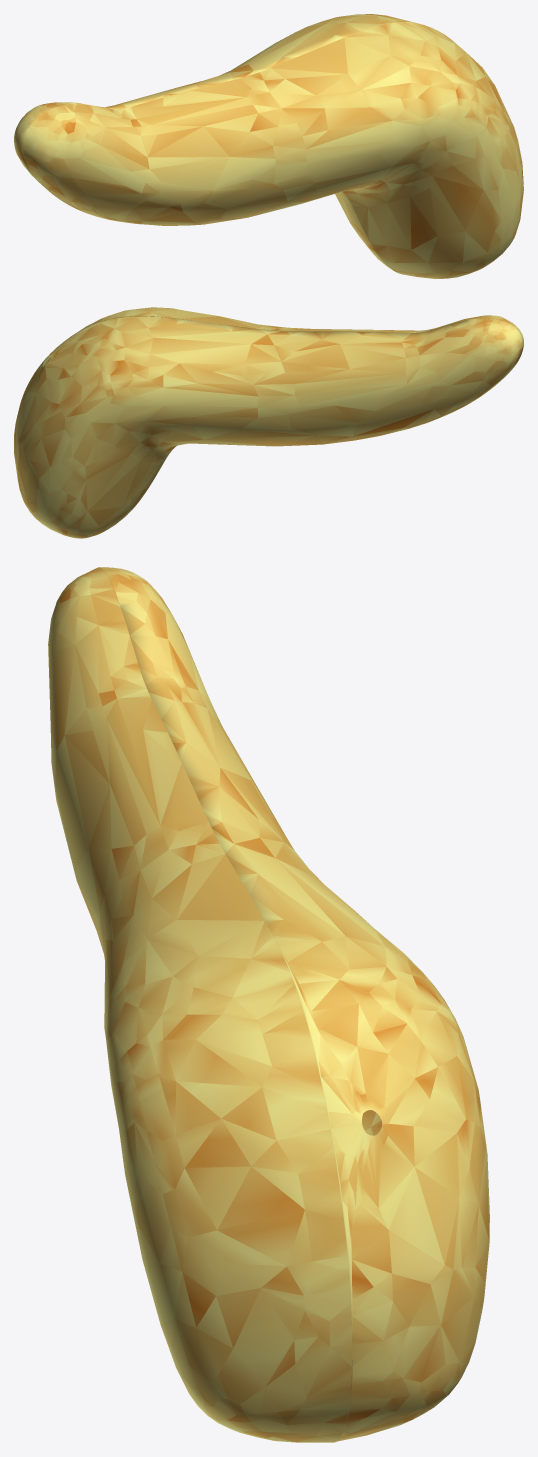
The model's file is Pancreas.FBX.
The picture shows the model from 3 angles, top to bottom: view 1: azimuth 30°, elevation 25°; view 2: azimuth 150°, elevation 25°; view 3: azimuth 270°, elevation 25°; orthographic projection. The views are drawn at different scales.
Parts seen in each view (by area): view 1: pancreas_sup_esq; view 2: pancreas_sup_esq; view 3: pancreas_sup_esq.
Part boxes in pixels (left/top/right/bottom): pancreas_sup_esq: left=14, top=14, right=523, bottom=278; pancreas_sup_esq: left=14, top=307, right=523, bottom=538; pancreas_sup_esq: left=48, top=567, right=489, bottom=1442.
Bounding box in the file's own units: 42.67 × 23.58 × 18.37.
1 material, 1 textured.
